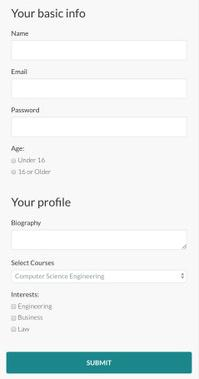button: (6, 350, 193, 374)
checkbox: (9, 301, 17, 312), (10, 313, 17, 324), (11, 325, 15, 335)
field: (9, 76, 189, 100), (9, 228, 189, 252), (10, 115, 189, 139), (10, 38, 188, 62)
field_with_label: (7, 219, 192, 255), (8, 28, 190, 64), (8, 106, 193, 141), (7, 68, 191, 101)
radio: (7, 166, 19, 178), (7, 155, 18, 166)
radio_with_label: (7, 300, 57, 313), (5, 165, 51, 179), (5, 153, 47, 167), (7, 311, 46, 325), (7, 324, 33, 338)
